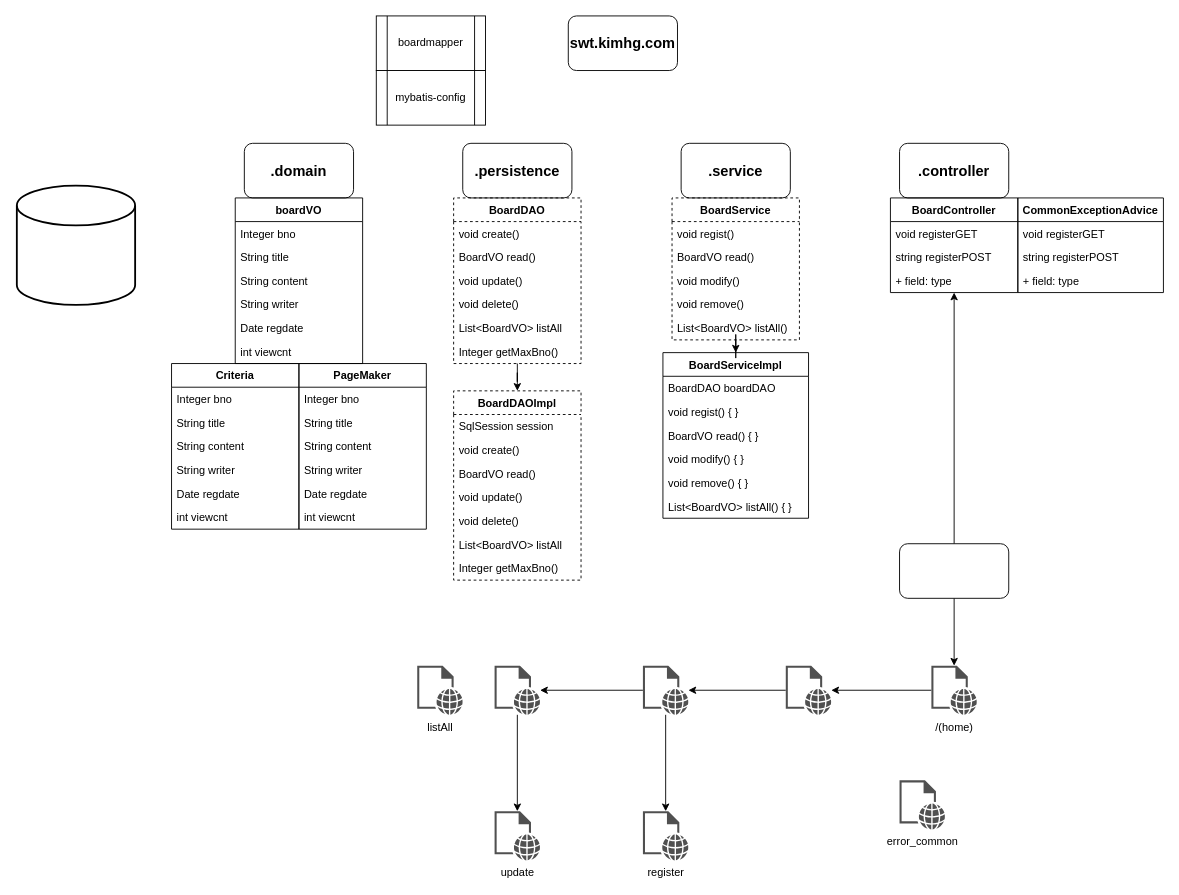
Some shapes in this 1179 by 895 pixel diagram are drawn without their labels. The shapes that lost their labels are listed below. From the top down, each one's centre as x and y in pixels, then its label:
(x=75, y=244): Database
(x=954, y=570): view
(x=517, y=689): read
(x=665, y=689): listPage
(x=808, y=689): board
